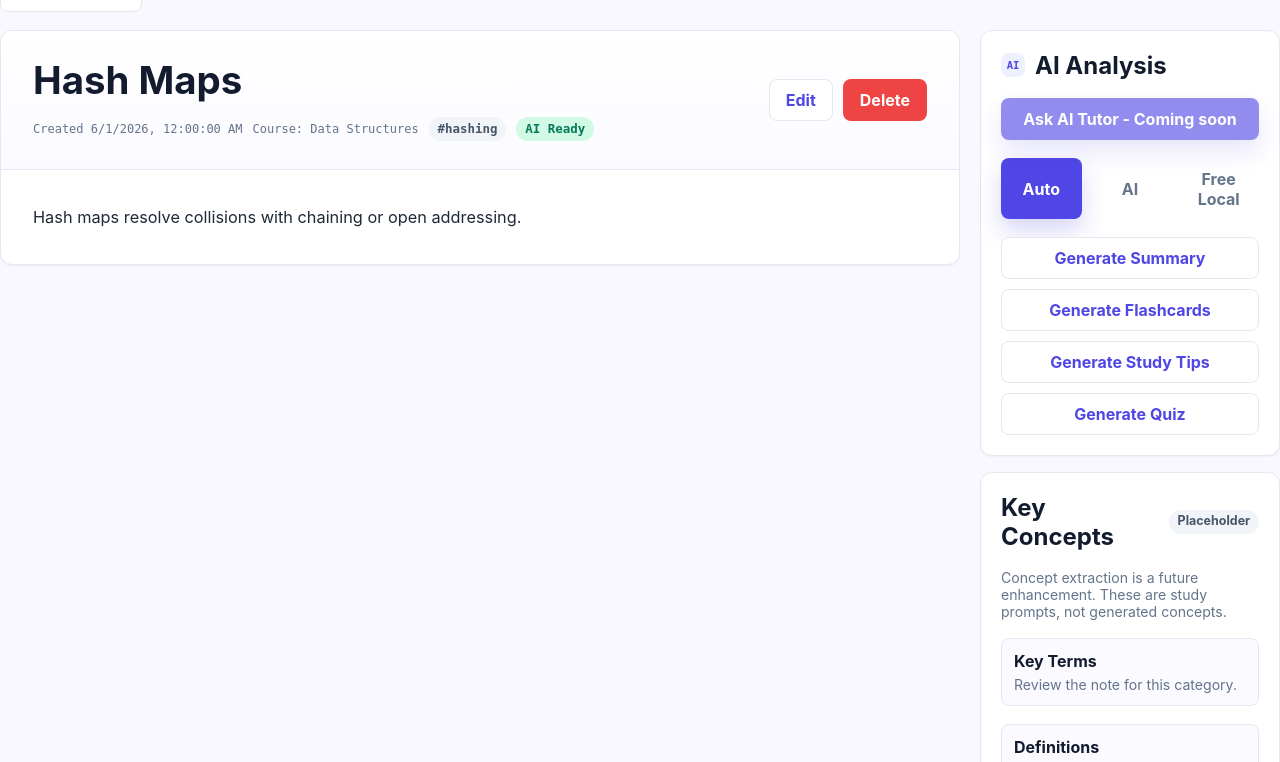
Test: NoteDetail AI actions › shows fallback notices returned by Auto mode
The width and height of the screenshot is (1280, 762).
Click the button "Generate Summary" at [1130, 258], box [1001,237,1259,279]
(page scrolled)
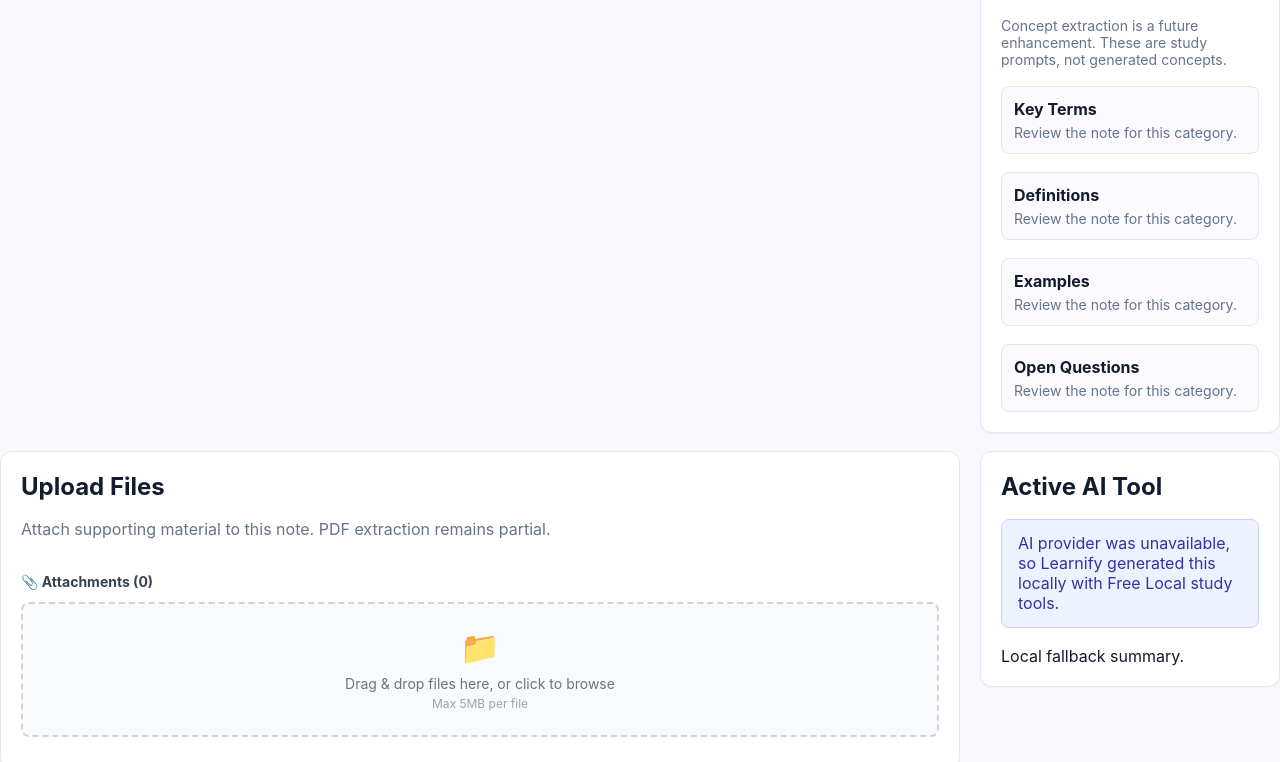
Check: the text "generated this locally with Free Local" is shown, box [1018,533,1237,613]
Check: the text "Local fallback summary." is shown, box [1001,646,1184,666]
